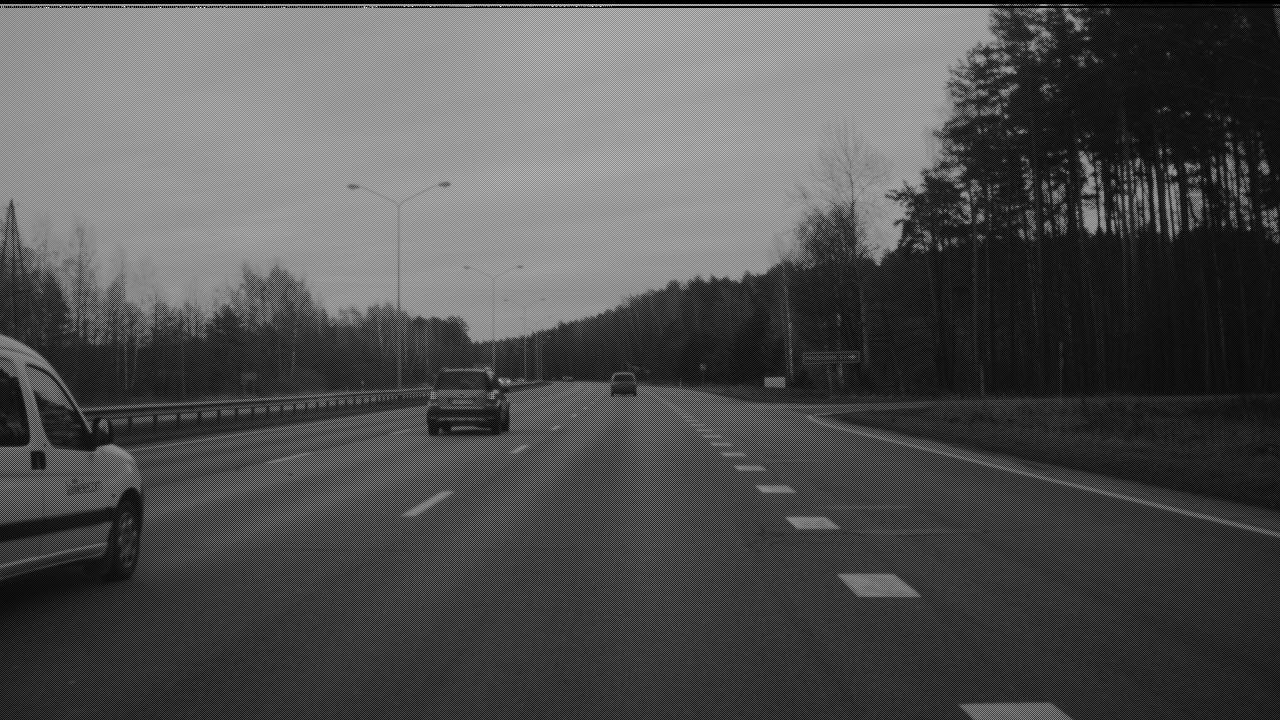pole: (875, 203, 881, 381), (784, 276, 789, 367)
